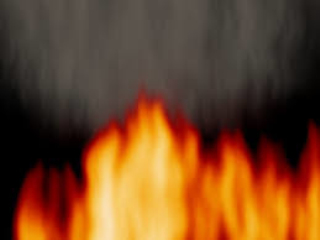fire: (15, 89, 314, 233)
